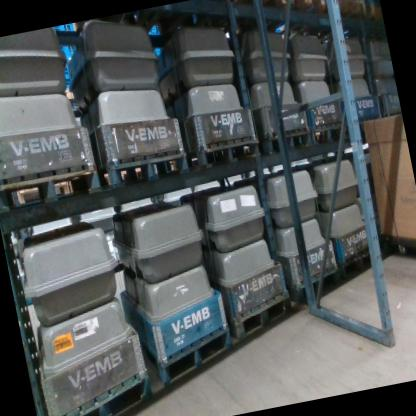pallet: (141, 321, 238, 388), (41, 370, 157, 416), (0, 160, 101, 212), (98, 147, 189, 192), (225, 291, 298, 342), (186, 135, 256, 175), (287, 262, 344, 305), (259, 126, 309, 155), (337, 250, 373, 282), (227, 0, 291, 16), (311, 120, 343, 146), (289, 0, 327, 14), (337, 0, 366, 18), (365, 0, 383, 20)
